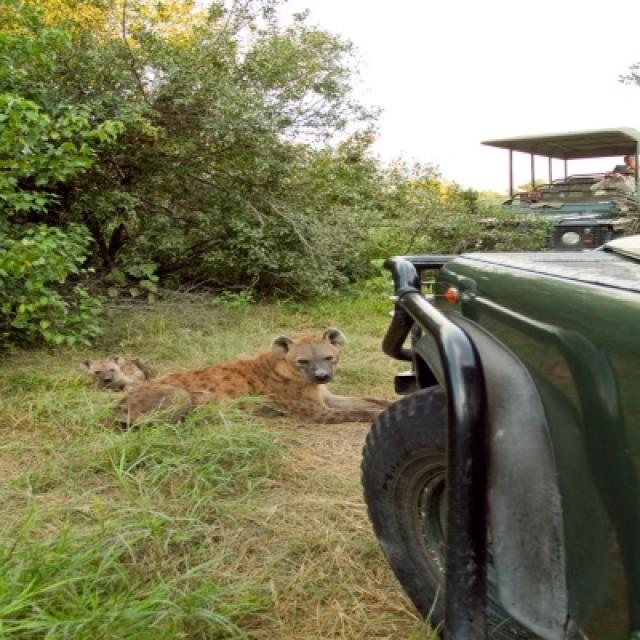hyena: (123, 325, 389, 429), (83, 350, 154, 394)
